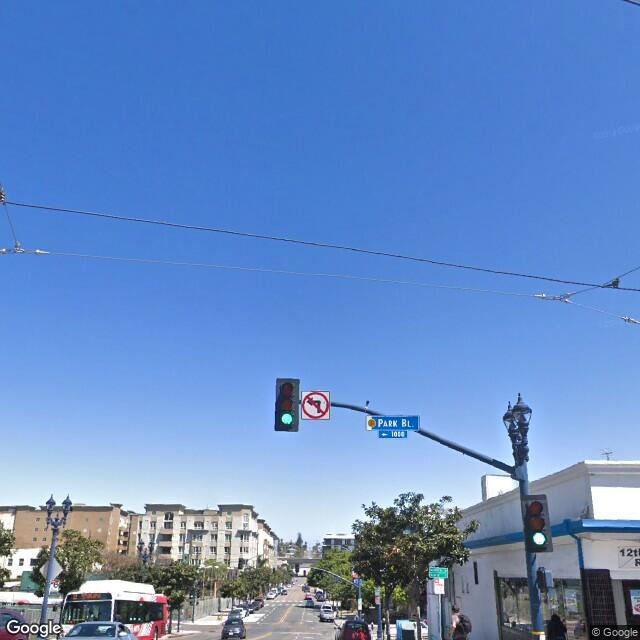light: (504, 401, 533, 451)
